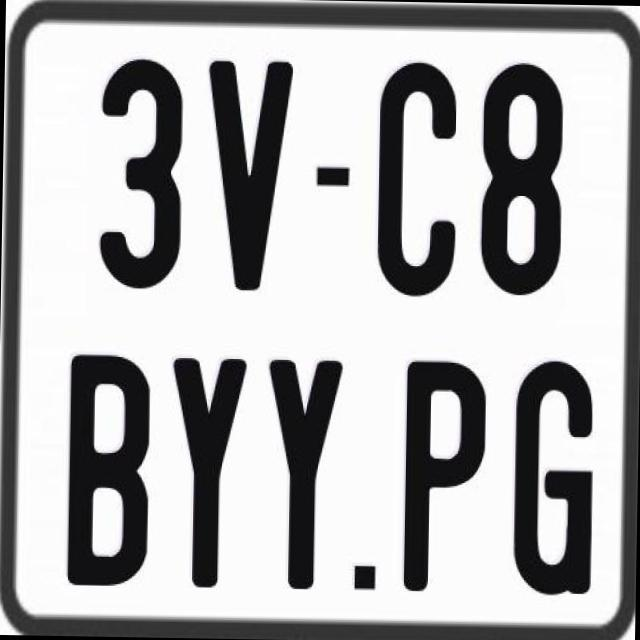3: (96, 59, 185, 298)
8: (475, 57, 559, 296)
B: (64, 351, 148, 589)
C: (376, 58, 461, 300)
G: (511, 360, 597, 596)
P: (399, 355, 484, 595)
V: (206, 57, 300, 298)
Y: (264, 359, 344, 595), (169, 352, 249, 586)
